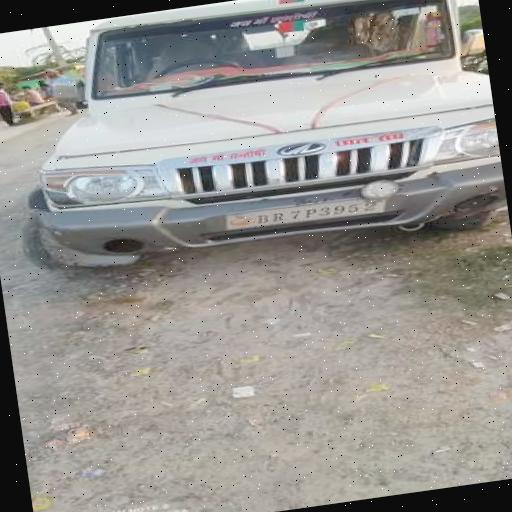license_plate`: (222, 192, 383, 232)
